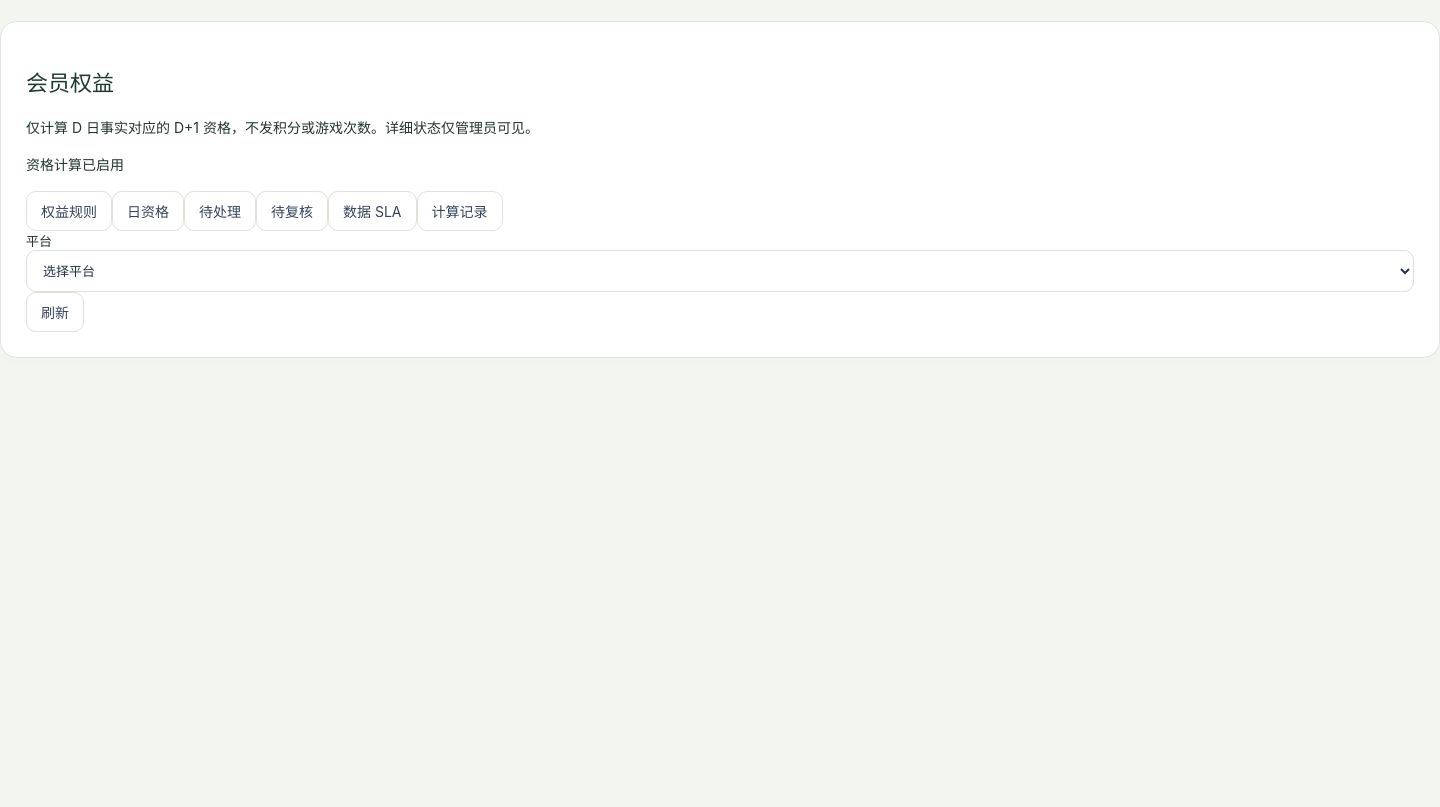
Test: conflict displays operator copy and drills into scoped P4 evidence
This screenshot has width=1440, height=807.
Click the button "日资格": (148, 211) [112,191,184,231]
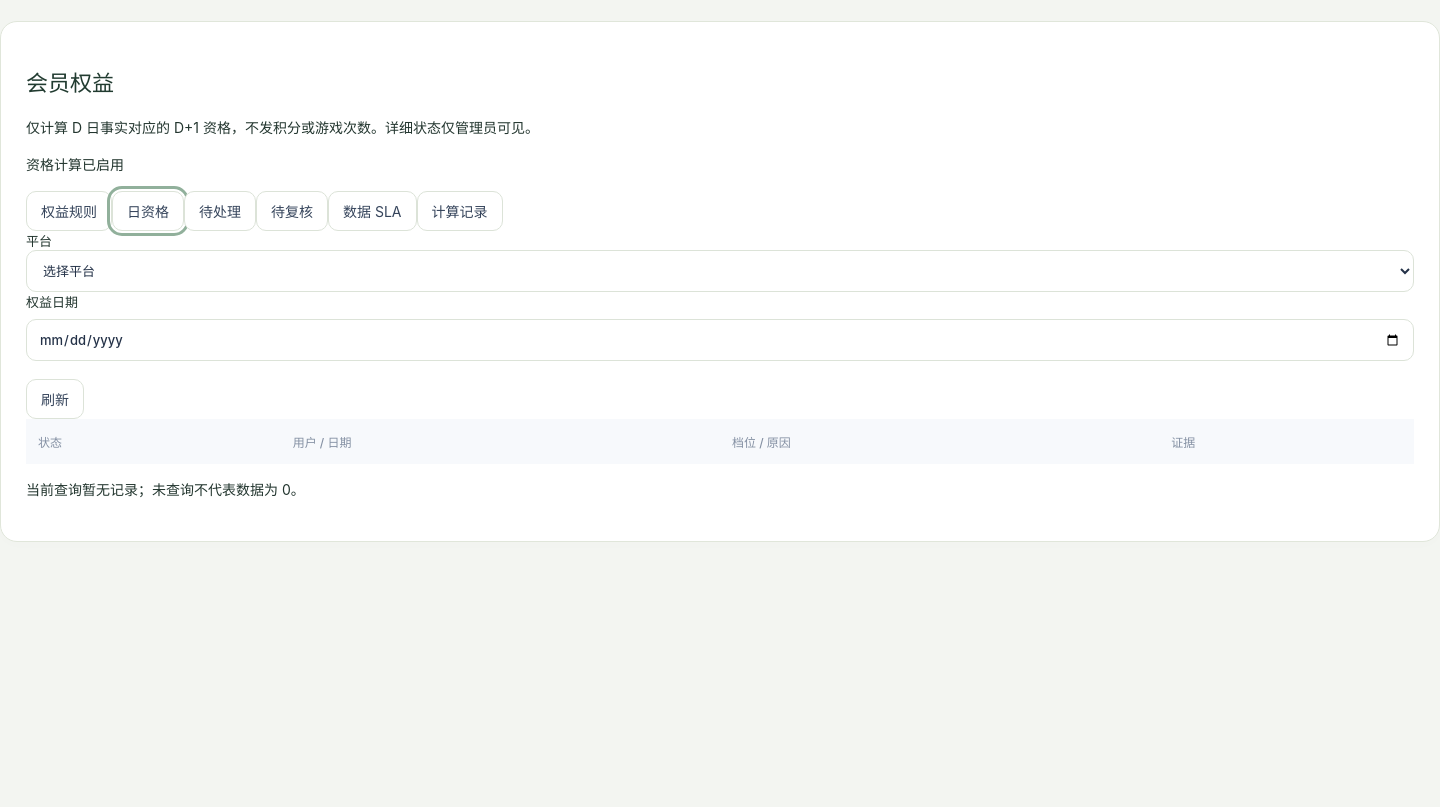
Select "FUN66" in the dropdown named "权益平台": (720, 271) [26,250,1414,292]
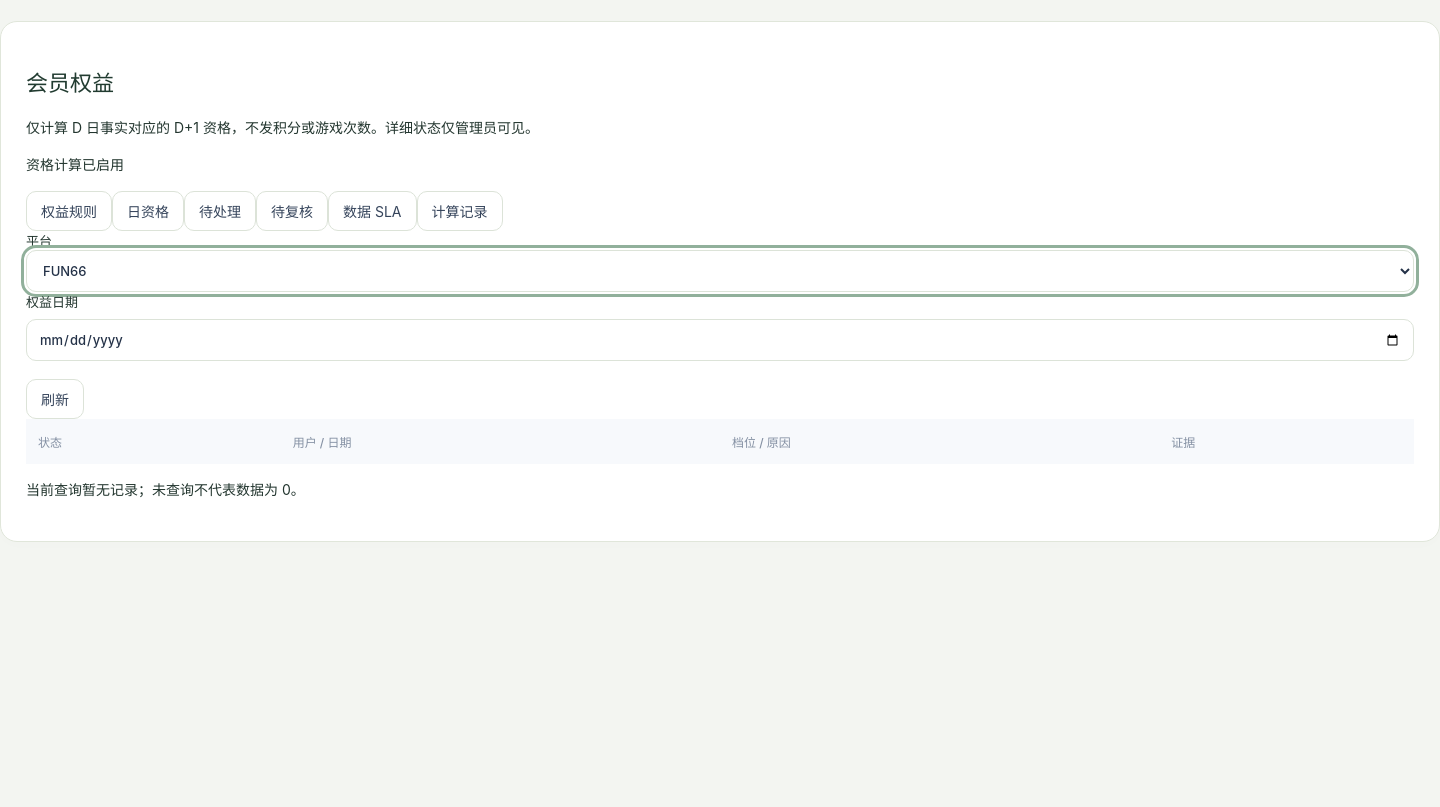
In the date field labelled "权益日期": (720, 340) [26,319,1414,361], type "2026-09-28"
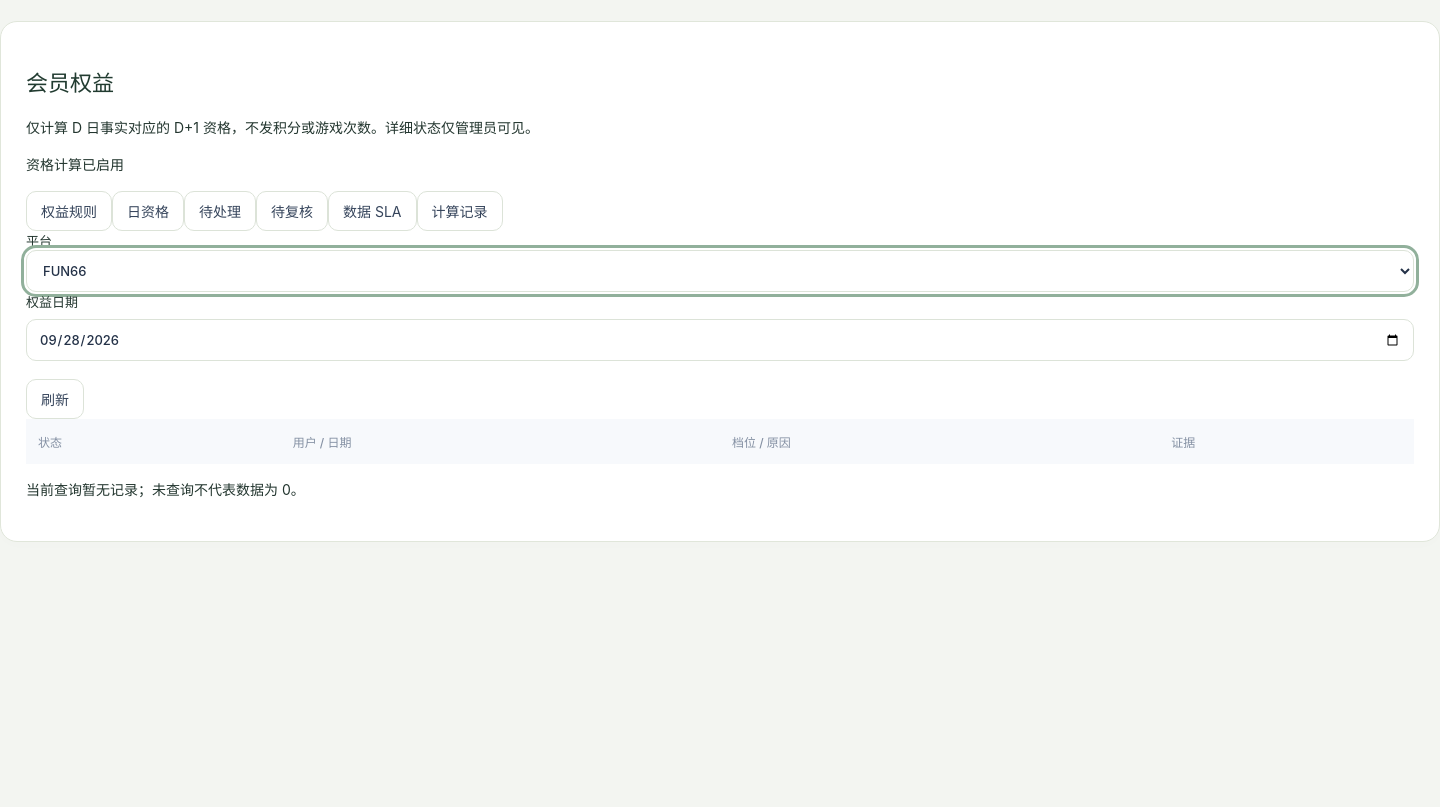
Click the button "刷新": (55, 399) [26,379,84,419]
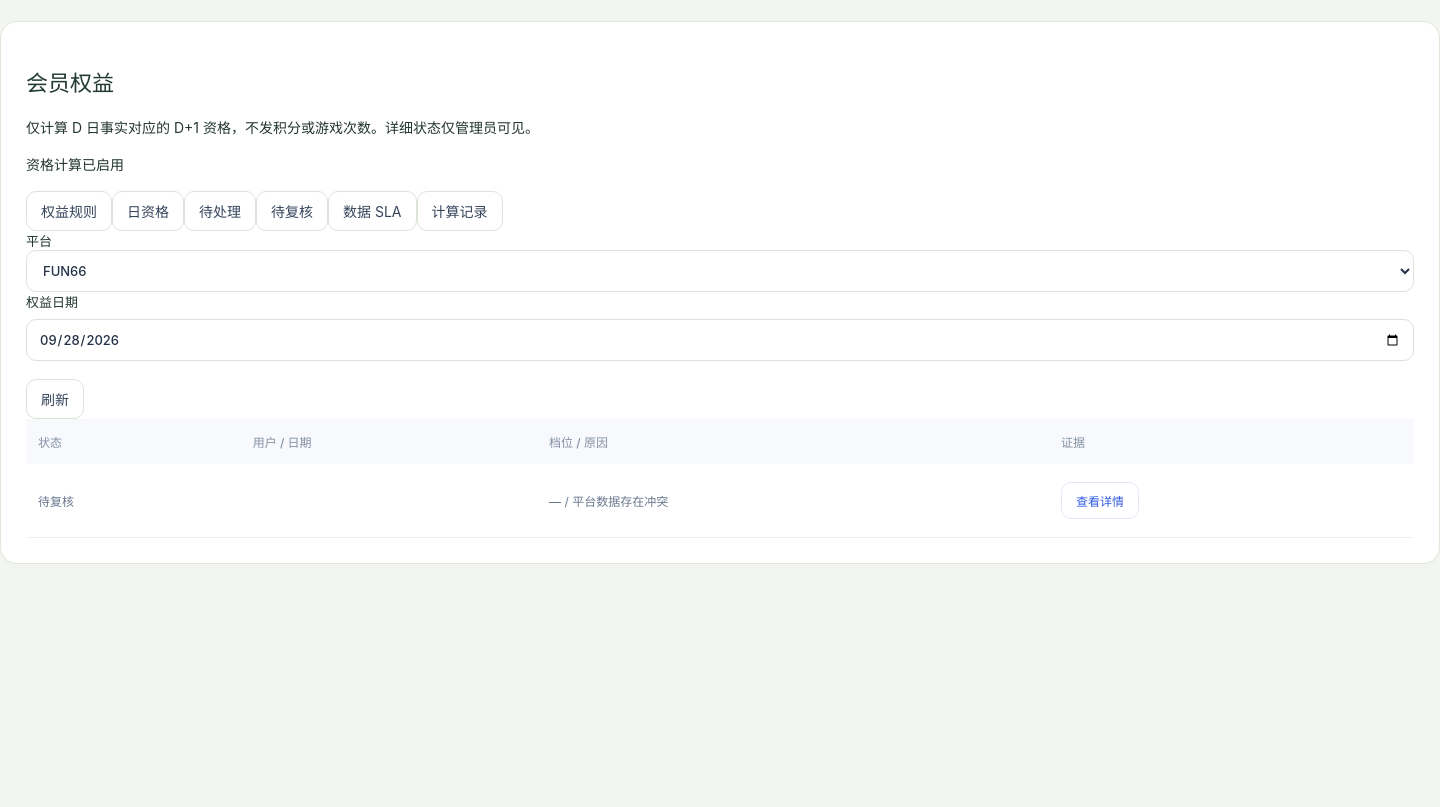
Now the text "— / 平台数据存在冲突" is shown, box [537,464,1049,538]
Click the button "查看详情": (1100, 501) [1061,482,1139,519]
(page scrolled)
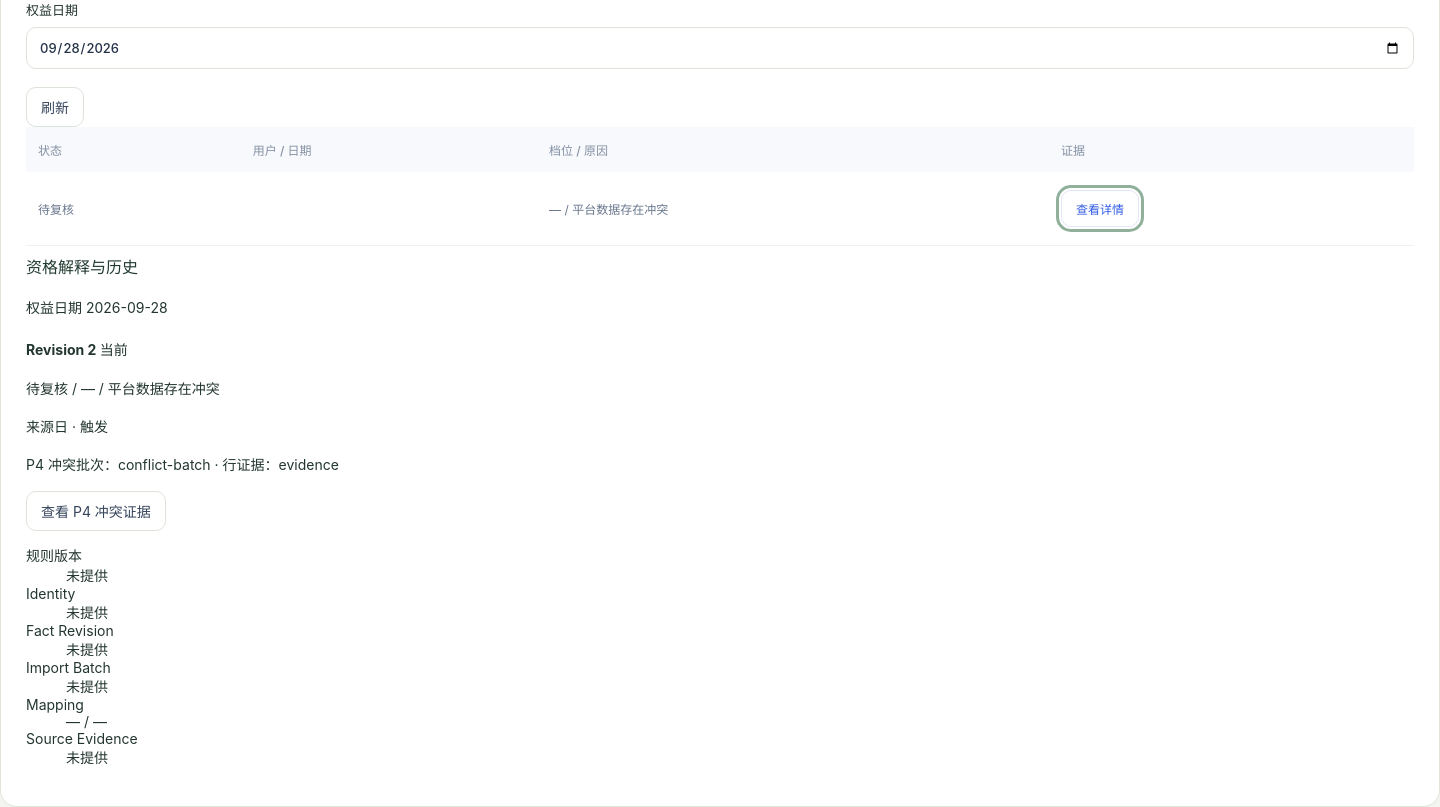
Click the button "查看 P4 冲突证据": (96, 510) [26,490,166,530]
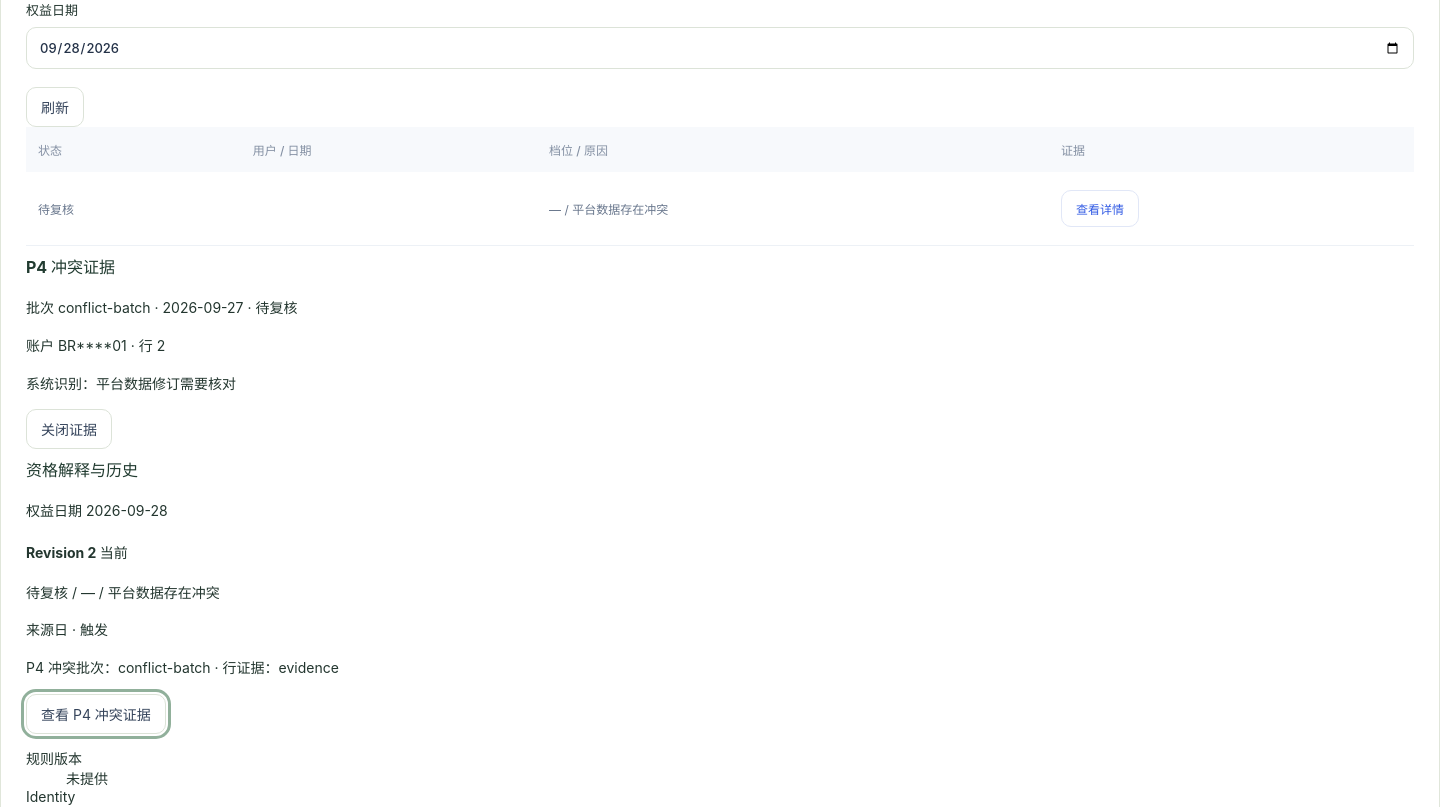
Now the element "P4 冲突证据" is shown, box [26,257,297,450]
Now the text "账户 BR****01 · 行 2" is shown, box [26,337,165,354]
